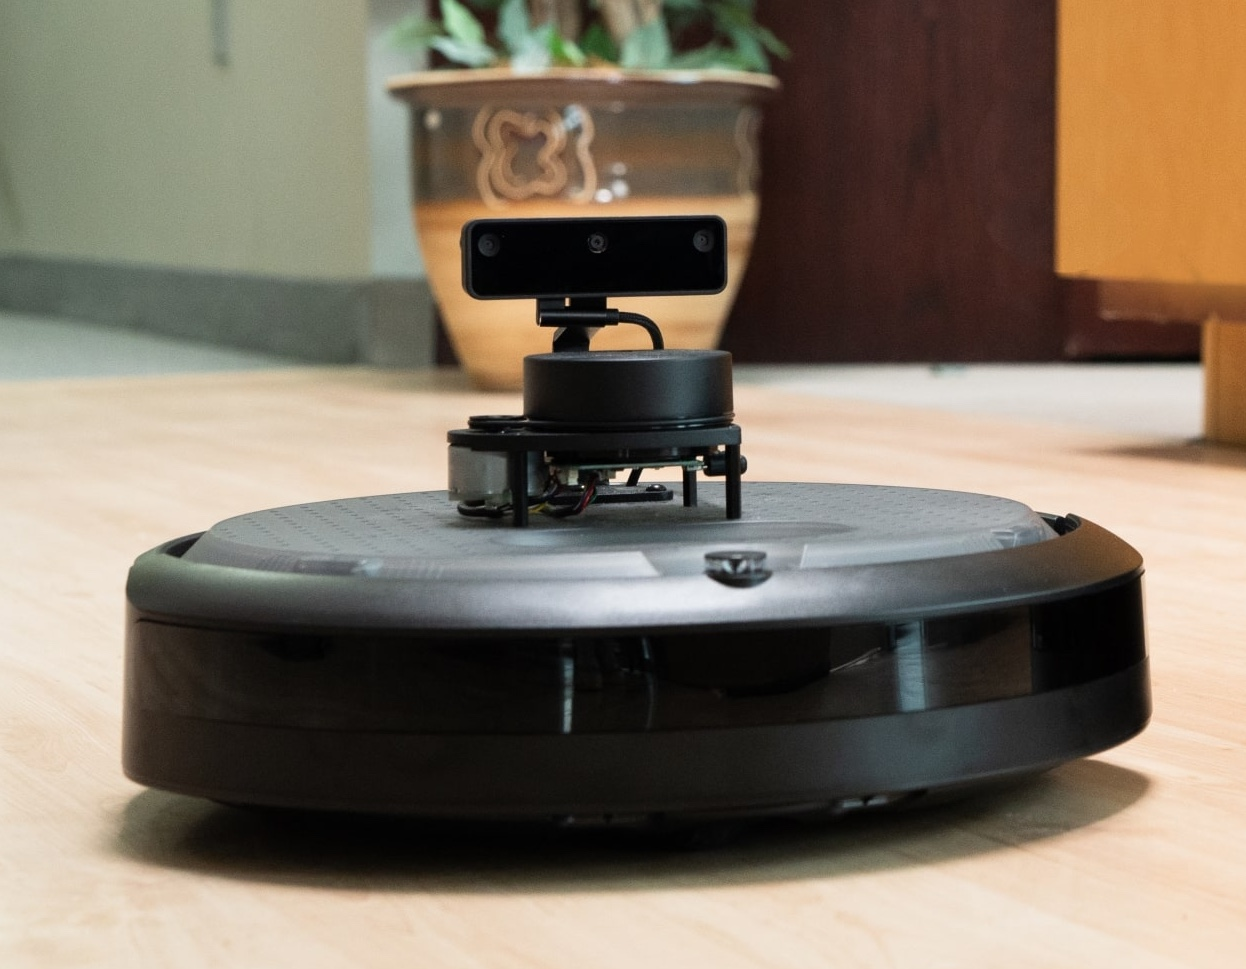turtlebot: (60, 134, 1204, 878)
